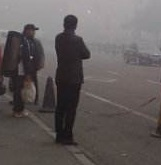person: (54, 13, 92, 145), (4, 23, 43, 119)
